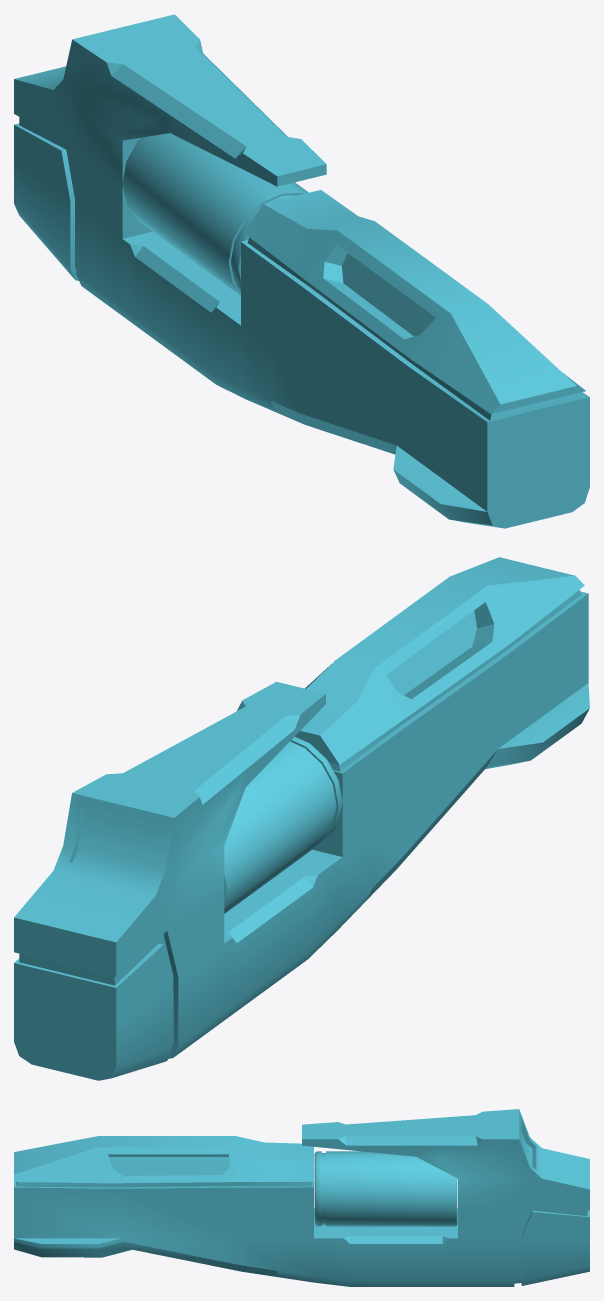
Rendered from part_body_03.fbx.
3 renders of one model, top to bottom at view 1: azimuth 30°, elevation 25°; view 2: azimuth 150°, elevation 25°; view 3: azimuth 270°, elevation 25°, orthographic. The views are drawn at different scales.
Parts seen in each view (by area): view 1: part_body_03; view 2: part_body_03; view 3: part_body_03.
Part boxes in pixels (bbox=[...]): part_body_03: bbox=[14, 14, 589, 528]; part_body_03: bbox=[14, 557, 589, 1080]; part_body_03: bbox=[14, 1109, 589, 1286].
Bounding box in the file's own units: 8.53 × 14 × 48.
